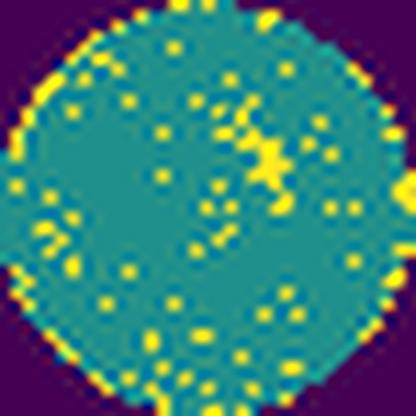Loc: (212, 93, 300, 219)
